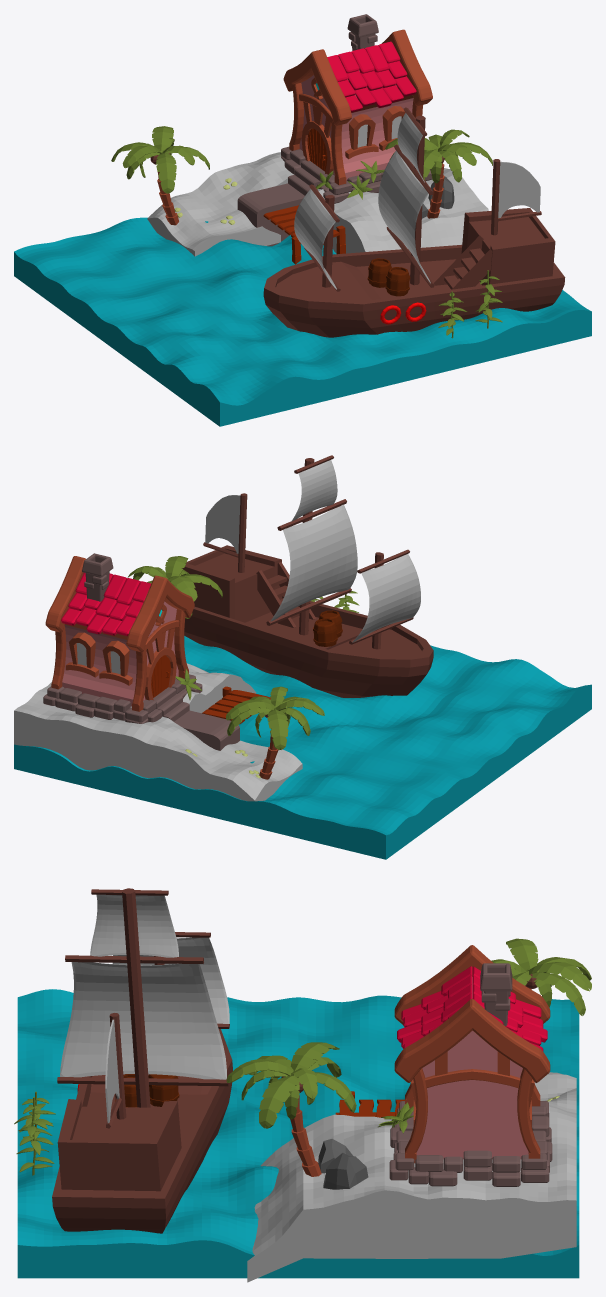
The model's file is beach2.glb.
3 renders of one model, top to bottom at view 1: azimuth 30°, elevation 25°; view 2: azimuth 150°, elevation 25°; view 3: azimuth 270°, elevation 25°, orthographic. The views are drawn at different scales.
Visible parts, largest first — view 1: Sea (Laut), Ship (Perahu), Pasir (Sand), House Border (Tralis), Roof (Genteng), Rock Foundation (Fondasi), Sail1, CoconutLeave2 (Daunkelapa2), House Wall (Tembok Rumah), CoconutLeave1(Daun kelapa), Sail3, SailTail (Bendera) (+8 smaller); view 2: Sea (Laut), Ship (Perahu), Pasir (Sand), House Border (Tralis), Sail1, Rock Foundation (Fondasi), Roof (Genteng), Sail3, House Wall (Tembok Rumah), CoconutLeave2 (Daunkelapa2), Sail2, SailTail (Bendera) (+5 smaller); view 3: Sea (Laut), Pasir (Sand), Ship (Perahu), Sail1, House Border (Tralis), House Wall (Tembok Rumah), Rock Foundation (Fondasi), CoconutLeave1(Daun kelapa), Roof (Genteng), Sail2, CoconutLeave2 (Daunkelapa2), Sail3 (+9 smaller).
Part boxes in pixels (x1,y1,x2,y2): Sea (Laut): (14,217,591,426); Ship (Perahu): (263,107,565,337); Pasir (Sand): (147,152,488,256); House Border (Tralis): (283,29,432,185); Roof (Genteng): (327,41,416,112); Rock Foundation (Fondasi): (237,146,432,246); Sail1: (378,150,430,283); CoconutLeave2 (Daunkelapa2): (111,126,209,193); House Wall (Tembok Rumah): (299,70,413,180); CoconutLeave1(Daun kelapa): (385,129,492,183); Sail3: (294,189,336,289); SailTail (Bendera): (498,161,540,217); Sea (Laut): (14,636,591,859); Ship (Perahu): (181,455,433,697); Pasir (Sand): (14,663,302,801); House Border (Tralis): (45,556,194,711); Sail1: (270,504,357,621); Rock Foundation (Fondasi): (43,674,239,750); Roof (Genteng): (61,572,151,636); Sail3: (352,554,420,642); House Wall (Tembok Rumah): (62,601,178,706); CoconutLeave2 (Daunkelapa2): (226,686,324,749); Sail2: (291,460,337,521); SailTail (Bendera): (205,495,240,553); Sea (Laut): (17,989,579,1278); Pasir (Sand): (247,1072,576,1282); Ship (Perahu): (52,888,232,1233); Sail1: (60,962,226,1079); House Border (Tralis): (394,945,550,1163); House Wall (Tembok Rumah): (416,977,528,1159); Rock Foundation (Fondasi): (389,1101,552,1186); CoconutLeave1(Daun kelapa): (226,1042,356,1128); Roof (Genteng): (397,966,547,1051); Sail2: (90,894,178,957); CoconutLeave2 (Daunkelapa2): (491,938,591,1015); Sail3: (112,937,229,1023).
Size of the model in its own units: 5599 by 3202 by 5510.
